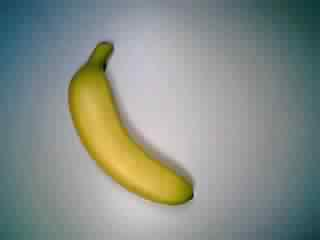banana: (63, 41, 203, 210)
